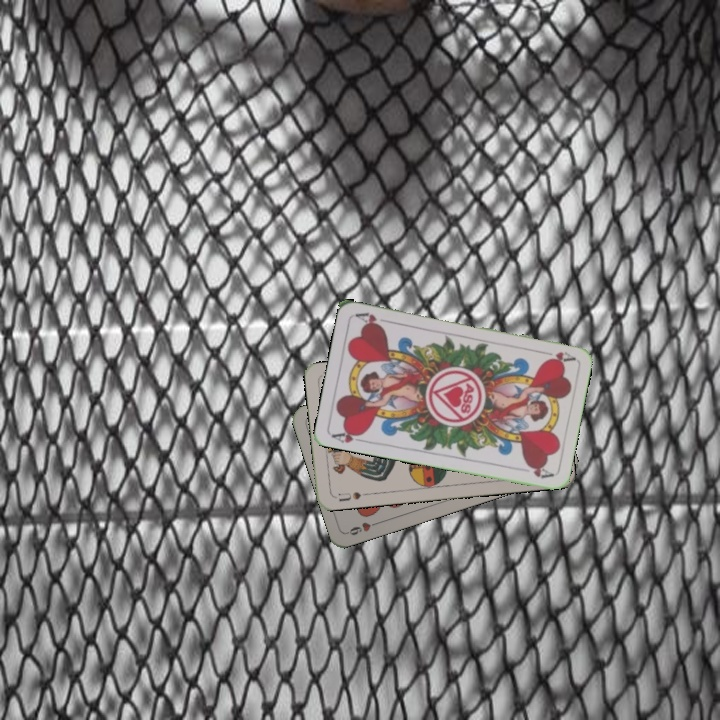H9: (343, 517, 383, 538)
HA: (328, 425, 369, 445), (536, 347, 577, 364)
SU: (331, 488, 371, 504)
